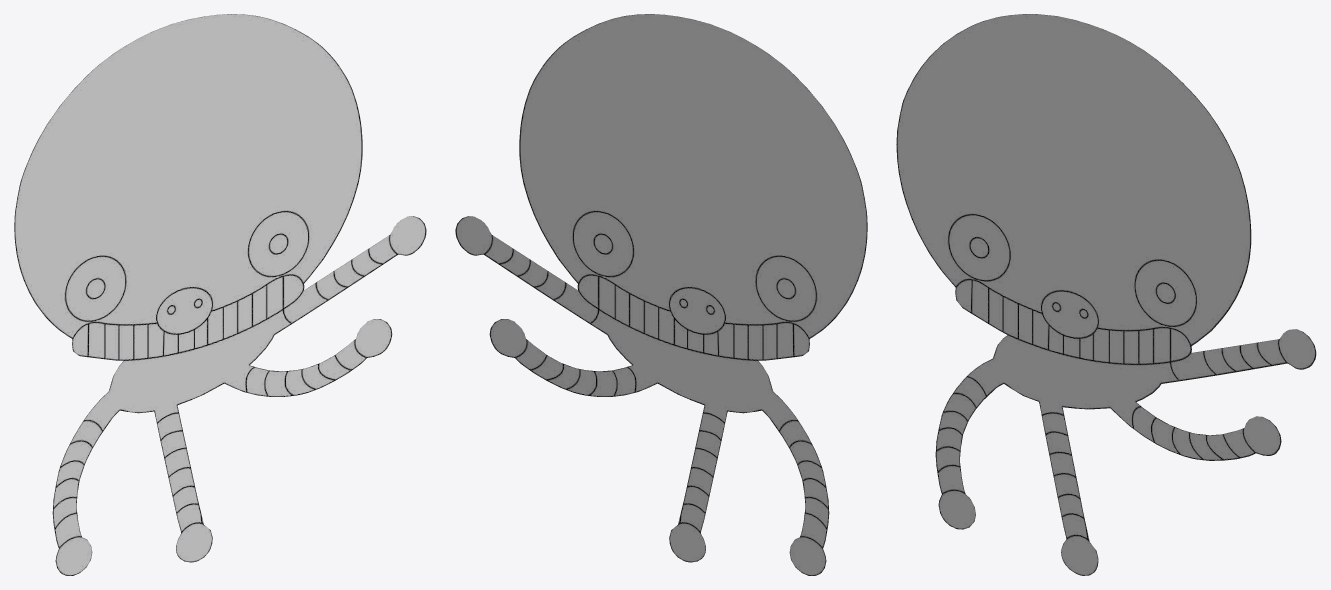
Rendered from 5_santui_fix.fbx.
The picture shows the model from 3 angles, left to right: view 1: azimuth 30°, elevation 25°; view 2: azimuth 150°, elevation 25°; view 3: azimuth 330°, elevation 25°; orthographic projection.
Visible parts, largest first — view 1: sdsds; view 2: sdsds; view 3: sdsds.
Boxes of the visible parts, x1=… form: sdsds: x1=14, y1=14, x2=426, y2=575; sdsds: x1=455, y1=14, x2=867, y2=575; sdsds: x1=896, y1=14, x2=1316, y2=575.
Size of the model in its own units: 9.2 by 11.6 by 5.07e-07.
Materials: 1 (1 with a texture image).
